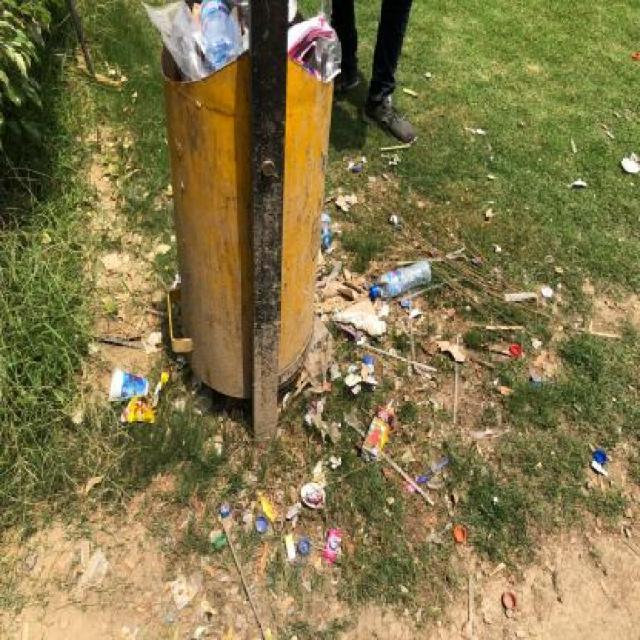garbage: (362, 348, 486, 556), (322, 206, 456, 348), (306, 348, 358, 576), (139, 1, 249, 86), (465, 254, 545, 360), (288, 3, 352, 86), (108, 368, 159, 434), (583, 438, 622, 490), (614, 154, 640, 193)
